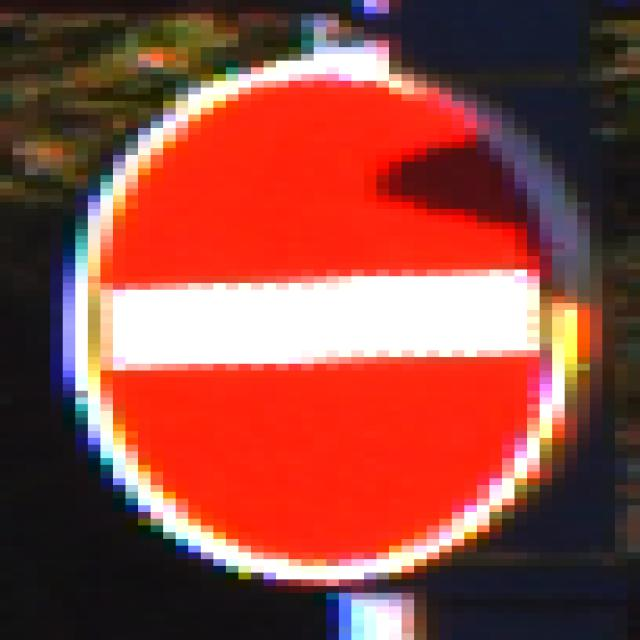No Entry: (64, 55, 578, 587)
